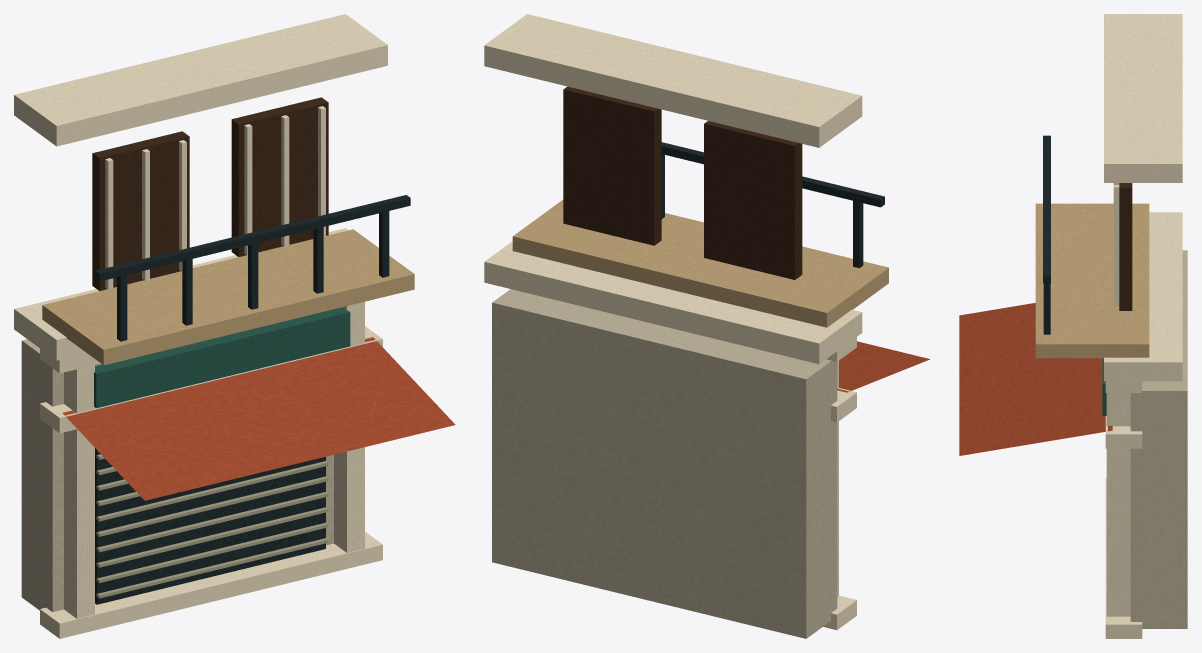
File: shop_lod0.glb
3 renders of one model, left to right at view 1: azimuth 30°, elevation 25°; view 2: azimuth 150°, elevation 25°; view 3: azimuth 270°, elevation 25°, orthographic. The views are drawn at different scales.
Parts seen in each view (by area): view 1: OldCityShop_LOD0; view 2: OldCityShop_LOD0; view 3: OldCityShop_LOD0.
Boxes of the visible parts, x1=… form: OldCityShop_LOD0: x1=14, y1=14, x2=455, y2=638; OldCityShop_LOD0: x1=484, y1=14, x2=929, y2=638; OldCityShop_LOD0: x1=959, y1=14, x2=1187, y2=638.
Size of the model in its own units: 4.05 by 6.01 by 2.61.
Materials: 1 (1 with a texture image).
